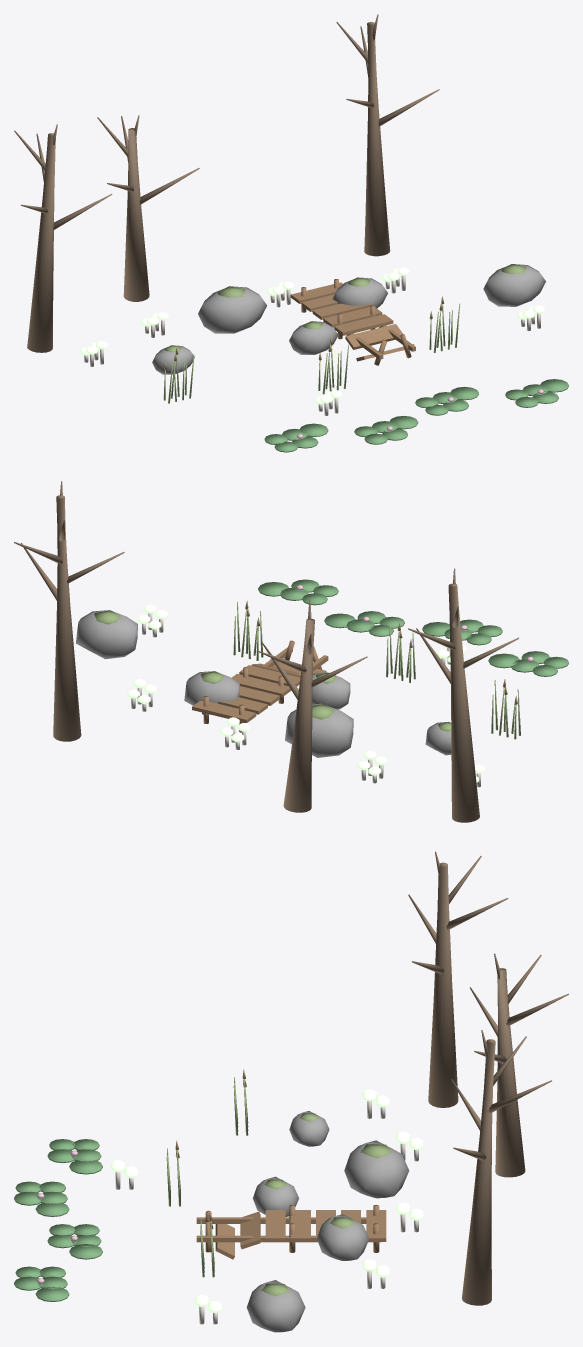
Rendered from swamp_props.glb.
3 views of the same model, one above another, from view 1: azimuth 30°, elevation 25°; view 2: azimuth 150°, elevation 25°; view 3: azimuth 270°, elevation 25° (orthographic). The views are drawn at different scales.
Parts seen in each view (by area): view 1: tree_dead_01, tree_dead_03, jetty_broken, tree_dead_02, rock_mossy_05, rock_mossy_04, rock_mossy_02, rock_mossy_03, lily_cluster_04, lily_cluster_01, lily_cluster_02, lily_cluster_03 (+4 smaller); view 2: tree_dead_01, tree_dead_03, tree_dead_02, jetty_broken, rock_mossy_04, rock_mossy_05, rock_mossy_03, lily_cluster_04, lily_cluster_01, lily_cluster_03, lily_cluster_02, rock_mossy_02 (+8 smaller); view 3: tree_dead_03, tree_dead_01, jetty_broken, tree_dead_02, rock_mossy_05, rock_mossy_04, rock_mossy_03, lily_cluster_03, lily_cluster_01, lily_cluster_02, lily_cluster_04, rock_mossy_02 (+1 smaller).
Part boxes in pixels (box(x1,y1,x2,y2)): tree_dead_01: box(14, 124, 112, 352); tree_dead_03: box(336, 14, 439, 256); jetty_broken: box(290, 279, 415, 365); tree_dead_02: box(97, 115, 199, 301); rock_mossy_05: box(198, 286, 267, 333); rock_mossy_04: box(483, 264, 545, 306); rock_mossy_02: box(289, 321, 338, 354); rock_mossy_03: box(332, 277, 387, 308); lily_cluster_04: box(505, 379, 568, 407); lily_cluster_01: box(264, 423, 328, 452); lily_cluster_02: box(354, 416, 418, 444); lily_cluster_03: box(415, 386, 478, 415); tree_dead_01: box(408, 568, 518, 822); tree_dead_03: box(14, 481, 124, 741); tree_dead_02: box(258, 599, 367, 812); jetty_broken: box(192, 640, 328, 732); rock_mossy_04: box(75, 610, 137, 659); rock_mossy_05: box(285, 703, 353, 757); rock_mossy_03: box(184, 671, 239, 714); lily_cluster_04: box(258, 579, 338, 605); lily_cluster_01: box(488, 651, 568, 676); lily_cluster_03: box(324, 611, 404, 636); lily_cluster_02: box(422, 619, 502, 645); rock_mossy_02: box(312, 672, 350, 709); tree_dead_03: box(451, 1030, 551, 1305); tree_dead_01: box(408, 851, 508, 1107); jetty_broken: box(196, 1205, 386, 1259); tree_dead_02: box(470, 953, 568, 1177); rock_mossy_05: box(344, 1140, 409, 1198); rock_mossy_04: box(246, 1280, 305, 1332); rock_mossy_03: box(317, 1214, 369, 1260); lily_cluster_03: box(47, 1224, 102, 1259); lily_cluster_01: box(47, 1139, 102, 1174); lily_cluster_02: box(14, 1181, 69, 1216); lily_cluster_04: box(14, 1266, 69, 1301); rock_mossy_02: box(252, 1176, 299, 1216).
Bounding box in the file's own units: 18.45 × 9.01 × 16.55.
